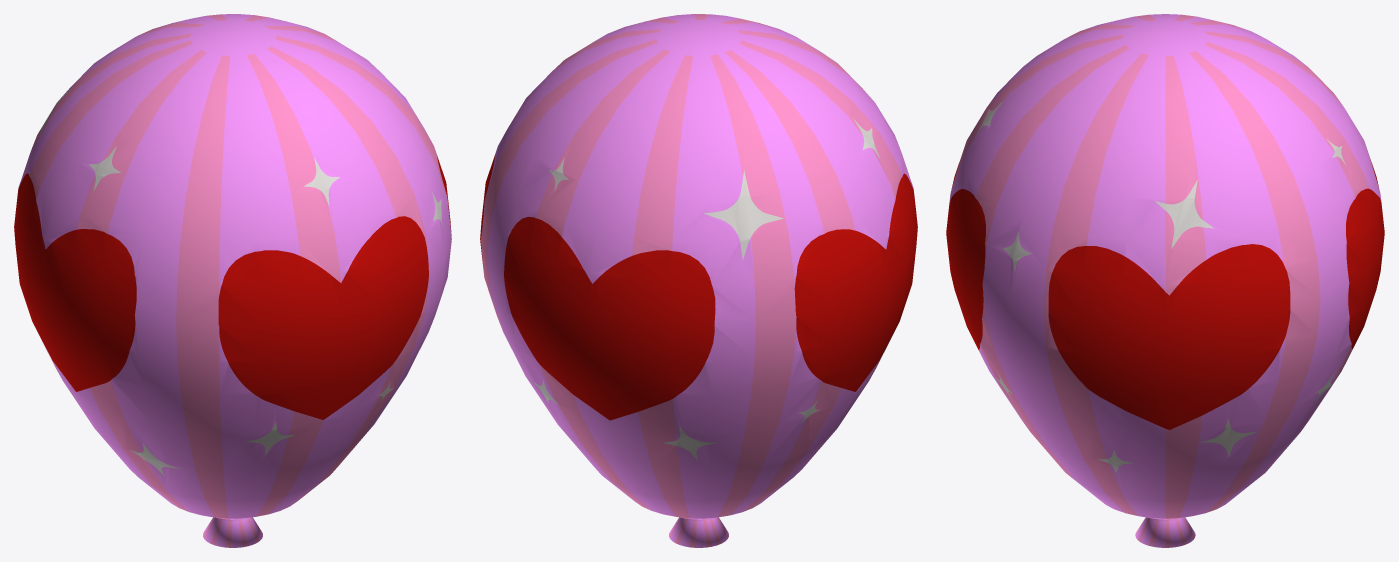
The model's file is BallonLife.fbx.
3 renders of one model, left to right at view 1: azimuth 30°, elevation 25°; view 2: azimuth 150°, elevation 25°; view 3: azimuth 270°, elevation 25°, orthographic.
Visible parts, largest first — view 1: BallonModel; view 2: BallonModel; view 3: BallonModel.
Boxes of the visible parts, x1,y1,x2,y2 form: BallonModel: (14, 14, 451, 547); BallonModel: (480, 14, 917, 547); BallonModel: (946, 14, 1384, 547).
Size of the model in its own units: 2 by 2 by 2.52.
